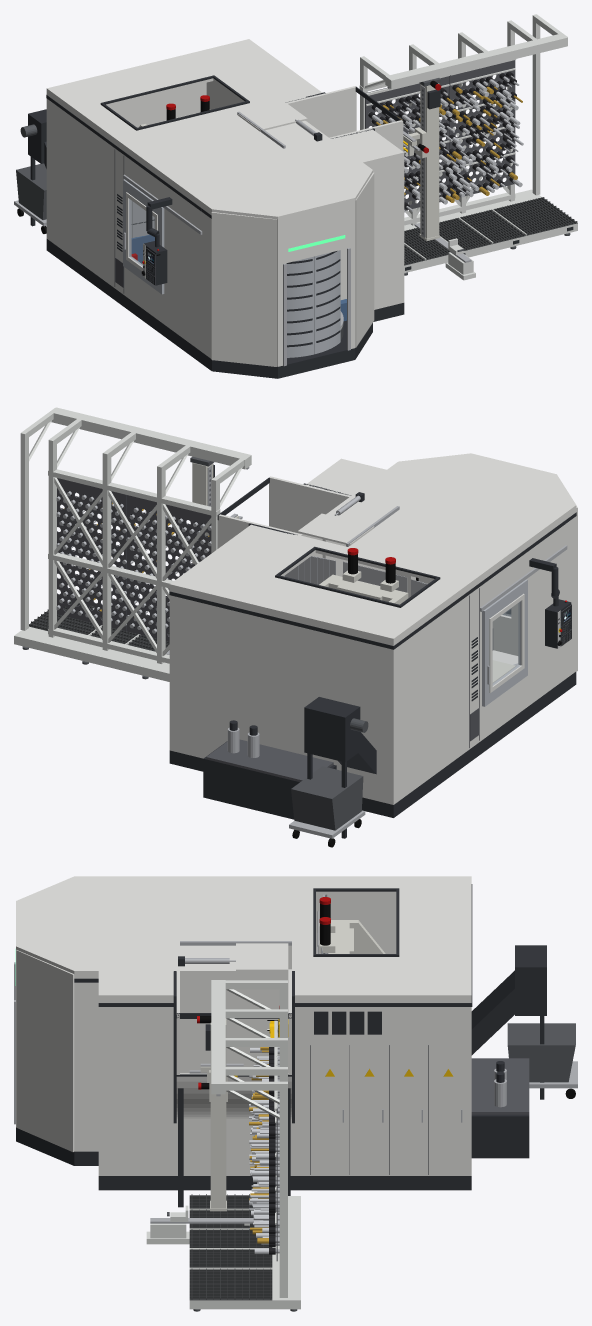
The model's file is hmc_x1200_4ax_white_left_sidemag2.glb.
3 renders of one model, top to bottom at view 1: azimuth 30°, elevation 25°; view 2: azimuth 150°, elevation 25°; view 3: azimuth 270°, elevation 25°, orthographic. The views are drawn at different scales.
Visible parts, largest first — view 1: enclosure__hmc_white, apc_housing__hmc_white, twm_frame__truss_white, twm_base__grating, twm_frame__anthracite_lt, enclosure__anthracite, twm_tools__holder, twm_tools__tool_bright, tc_box__hmc_white, apc_housing__anthracite, apc_door_right__door_grey, apc_door_left__door_grey (+17 smaller); view 2: enclosure__hmc_white, twm_frame__truss_white, twm_frame__anthracite_lt, chip_coolant__anthracite, apc_housing__hmc_white, enclosure__anthracite, tc_box__hmc_white, chip_cart__steel_dark, twm_tools__steel, twm_base__truss_white, chip_coolant__anthracite_lt, operator_door__door_grey (+14 smaller); view 3: enclosure__hmc_white, apc_housing__hmc_white, electrical_cabinet__hmc_white, enclosure__anthracite, twm_frame__truss_white, chip_coolant__anthracite, twm_base__grating, tc_door__hmc_white, twm_base__truss_white, chip_cart__steel_dark, tc_box__hmc_white, chip_coolant__anthracite_lt (+11 smaller).
Boxes of the visible parts, x1,y1,x2,y2 form: enclosure__hmc_white: [46, 39, 404, 351]; apc_housing__hmc_white: [201, 162, 374, 366]; twm_frame__truss_white: [359, 14, 567, 225]; twm_base__grating: [404, 197, 577, 265]; twm_frame__anthracite_lt: [365, 60, 515, 210]; enclosure__anthracite: [46, 75, 404, 363]; twm_tools__holder: [368, 71, 516, 209]; twm_tools__tool_bright: [372, 75, 523, 212]; tc_box__hmc_white: [286, 86, 403, 151]; apc_housing__anthracite: [201, 208, 372, 378]; apc_door_right__door_grey: [287, 256, 314, 357]; apc_door_left__door_grey: [314, 250, 340, 353]; enclosure__hmc_white: [169, 458, 565, 804]; twm_frame__truss_white: [20, 407, 251, 663]; twm_frame__anthracite_lt: [57, 478, 211, 641]; chip_coolant__anthracite: [203, 697, 376, 838]; apc_housing__hmc_white: [387, 453, 577, 678]; enclosure__anthracite: [169, 483, 565, 817]; tc_box__hmc_white: [217, 476, 350, 548]; chip_cart__steel_dark: [291, 766, 363, 830]; twm_tools__steel: [56, 491, 211, 633]; twm_base__truss_white: [14, 622, 169, 681]; chip_coolant__anthracite_lt: [206, 739, 333, 781]; operator_door__door_grey: [482, 579, 527, 706]; enclosure__hmc_white: [98, 876, 471, 1175]; apc_housing__hmc_white: [16, 876, 98, 1151]; electrical_cabinet__hmc_white: [310, 1044, 468, 1175]; enclosure__anthracite: [98, 884, 472, 1190]; twm_frame__truss_white: [211, 980, 287, 1297]; chip_coolant__anthracite: [471, 945, 546, 1158]; twm_base__grating: [189, 1194, 272, 1300]; tc_door__hmc_white: [236, 943, 288, 1072]; twm_base__truss_white: [189, 1196, 300, 1309]; chip_cart__steel_dark: [507, 1023, 575, 1082]; tc_box__hmc_white: [176, 971, 291, 1119]; chip_coolant__anthracite_lt: [471, 1058, 529, 1114].
Bounding box in the file's own units: 8.57 × 3.54 × 7.86.
Materials: 23 (2 with a texture image).
